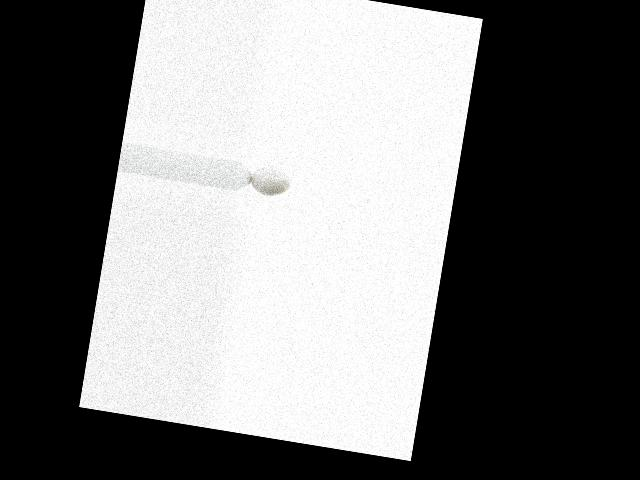egg: (248, 164, 292, 198)
